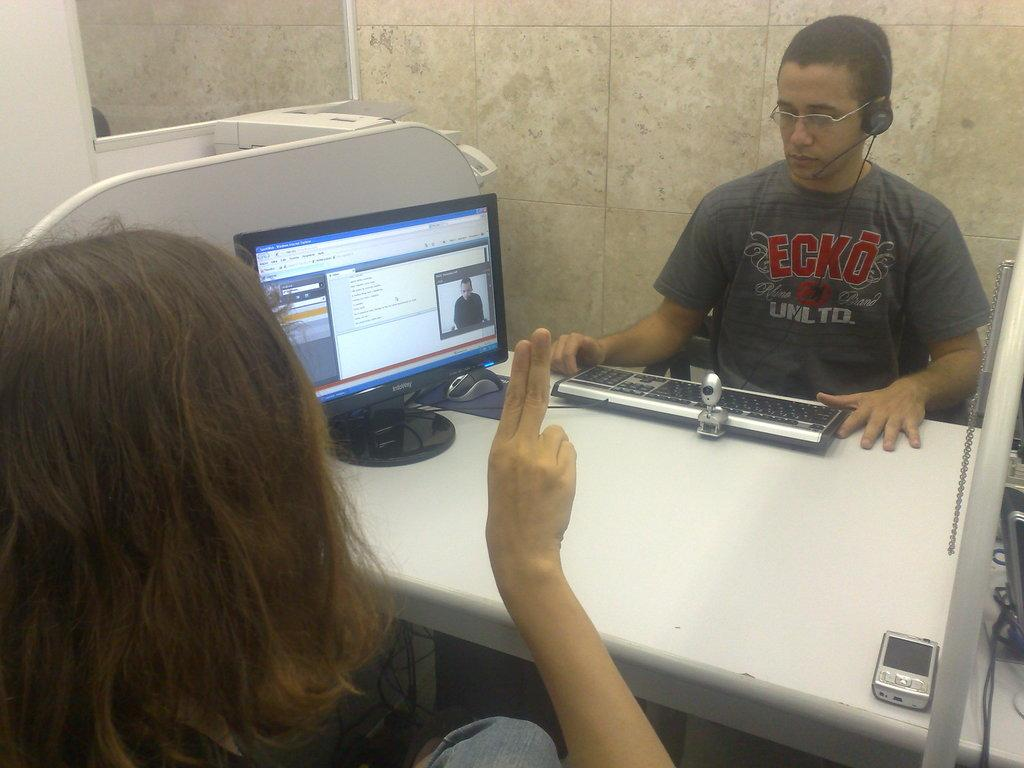Computer-keyboard: (548, 362, 849, 454)
Computer-monitor: (232, 193, 516, 464)
